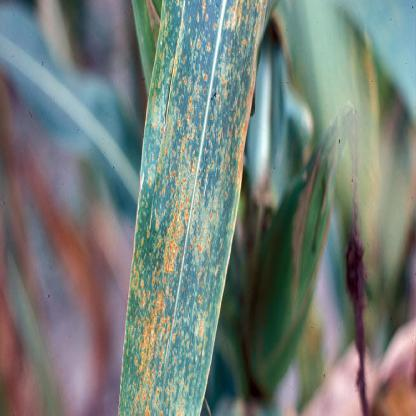Corn rust leaf: (119, 1, 265, 415)
